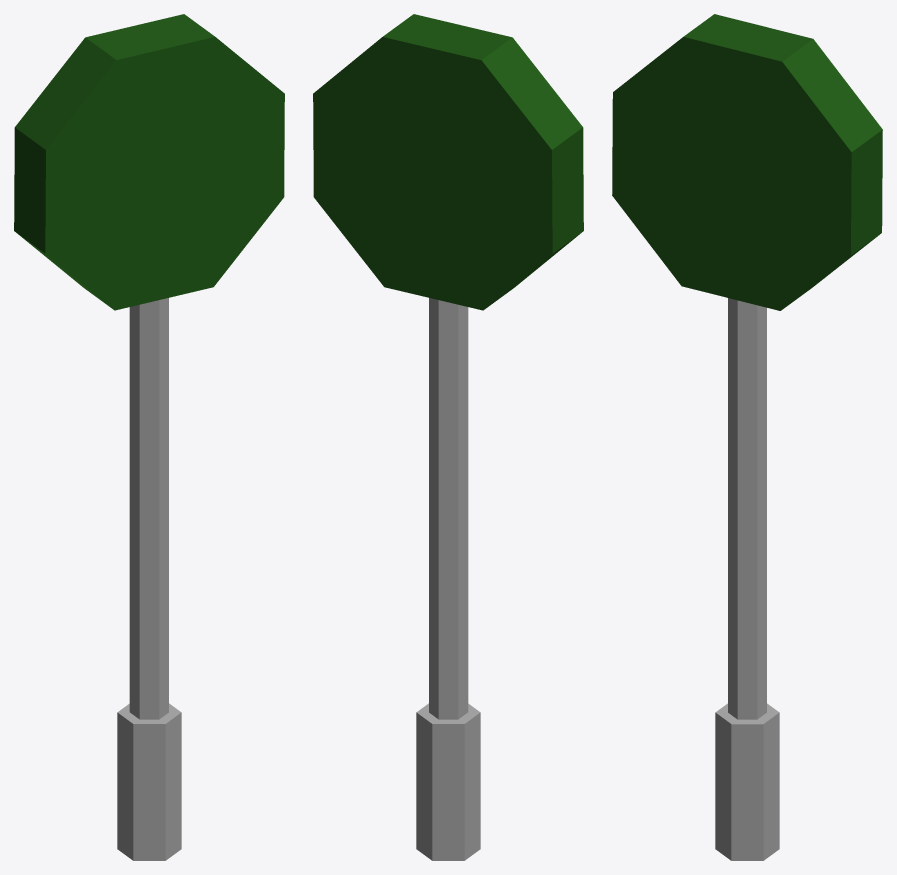
The model's file is SignBoard_03.fbx.
3 views of the same model, side by side, from view 1: azimuth 30°, elevation 25°; view 2: azimuth 150°, elevation 25°; view 3: azimuth 330°, elevation 25° (orthographic).
Visible parts, largest first — view 1: SignBoard_03; view 2: SignBoard_03; view 3: SignBoard_03.
Part boxes in pixels (<box>): SignBoard_03: <box>14,14,284,860</box>; SignBoard_03: <box>313,14,583,860</box>; SignBoard_03: <box>612,14,882,860</box>.
Bounding box in the file's own units: 476 × 1542 × 110.
